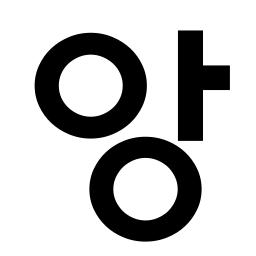Gaji: (161, 51, 222, 104)
